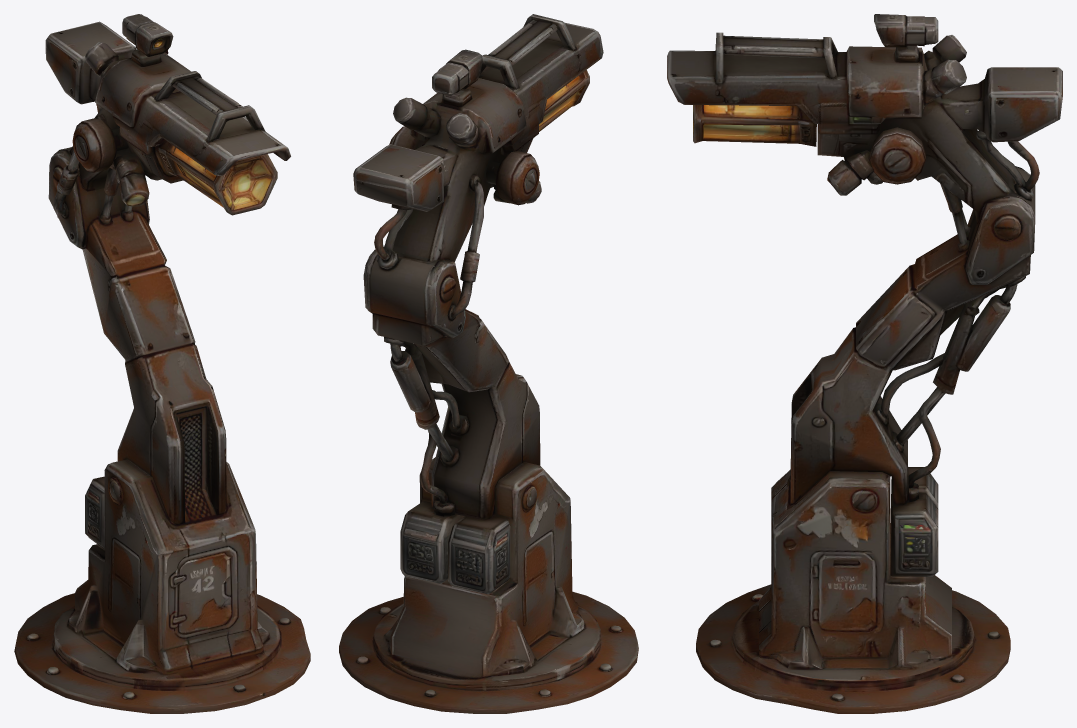
The model's file is 019eb035-5079-7fd5-bdbb-ad59d1f8f869.glb.
The picture shows the model from 3 angles, left to right: view 1: azimuth 30°, elevation 25°; view 2: azimuth 150°, elevation 25°; view 3: azimuth 270°, elevation 25°; orthographic projection. The views are drawn at different scales.
Parts seen in each view (by area): view 1: tripo_node_70d08f07-2512-49d0-8e2e-fdd75489b11e; view 2: tripo_node_70d08f07-2512-49d0-8e2e-fdd75489b11e; view 3: tripo_node_70d08f07-2512-49d0-8e2e-fdd75489b11e.
Part boxes in pixels (bbox=[...]): tripo_node_70d08f07-2512-49d0-8e2e-fdd75489b11e: bbox=[14, 14, 310, 713]; tripo_node_70d08f07-2512-49d0-8e2e-fdd75489b11e: bbox=[339, 14, 638, 713]; tripo_node_70d08f07-2512-49d0-8e2e-fdd75489b11e: bbox=[667, 14, 1062, 713].
Bounding box in the file's own units: 0.4434 × 0.998 × 0.5645.
1 material, 1 textured.
